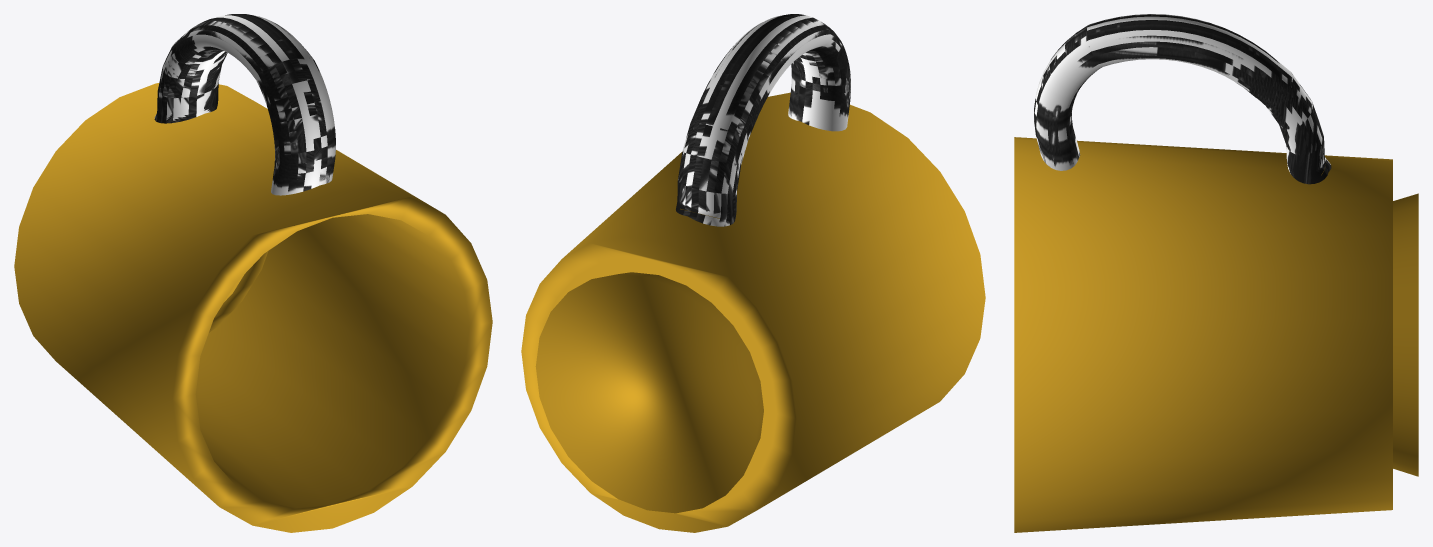
File: model_align.obj
The picture shows the model from 3 angles, left to right: view 1: azimuth 30°, elevation 25°; view 2: azimuth 150°, elevation 25°; view 3: azimuth 270°, elevation 25°; orthographic projection. The views are drawn at different scales.
Visible parts, largest first — view 1: mesh2_mesh2-geometry, mesh4_mesh4-geometry, mesh1_mesh1-geometry; view 2: mesh2_mesh2-geometry, mesh1_mesh1-geometry, mesh4_mesh4-geometry; view 3: mesh2_mesh2-geometry, mesh4_mesh4-geometry, mesh1_mesh1-geometry.
Part boxes in pixels (x1,y1,x2,y2): mesh2_mesh2-geometry: (14,83,492,532); mesh4_mesh4-geometry: (154,14,335,195); mesh1_mesh1-geometry: (209,251,268,332); mesh2_mesh2-geometry: (521,92,985,532); mesh1_mesh1-geometry: (535,272,763,513); mesh4_mesh4-geometry: (676,14,850,226); mesh2_mesh2-geometry: (1014,137,1392,532); mesh4_mesh4-geometry: (1034,14,1331,184); mesh1_mesh1-geometry: (1393,193,1418,476).
Bounding box in the file's own units: 0.0782 × 0.1065 × 0.0796.
